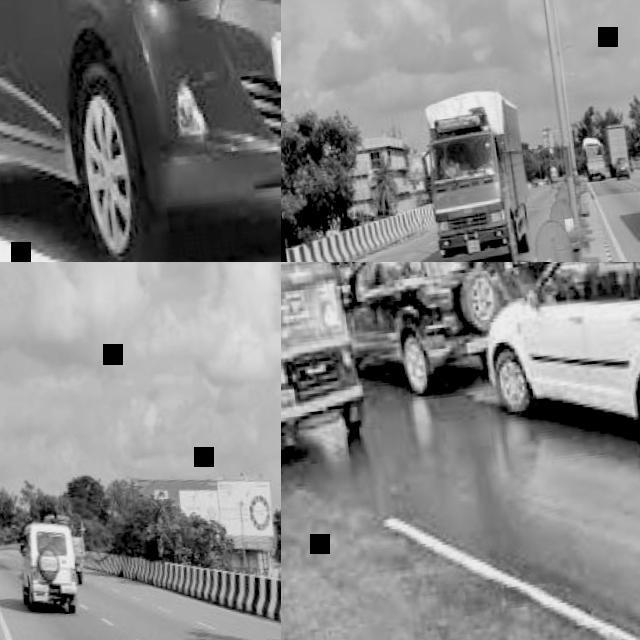car: (65, 0, 286, 258), (485, 265, 639, 420), (349, 253, 489, 397), (422, 96, 532, 266), (279, 263, 362, 472), (18, 524, 86, 612)
